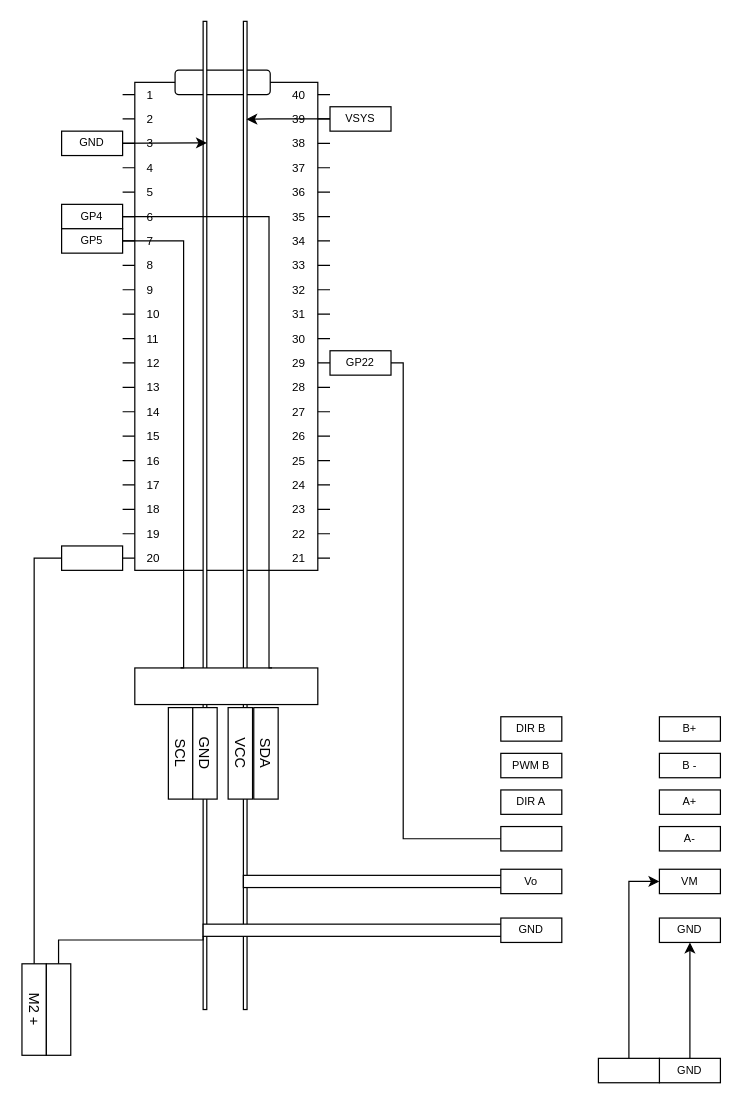
The diagram is 742 pixels wide and 1104 high, and some of its shapes have lost their labels. Each missing label, with the box of its shape:
15V+: (597, 1057, 659, 1083)
B G P Y: (134, 667, 318, 705)
GP15: (60, 545, 123, 570)
M2 -: (45, 963, 71, 1055)
PWM A: (500, 825, 562, 851)
